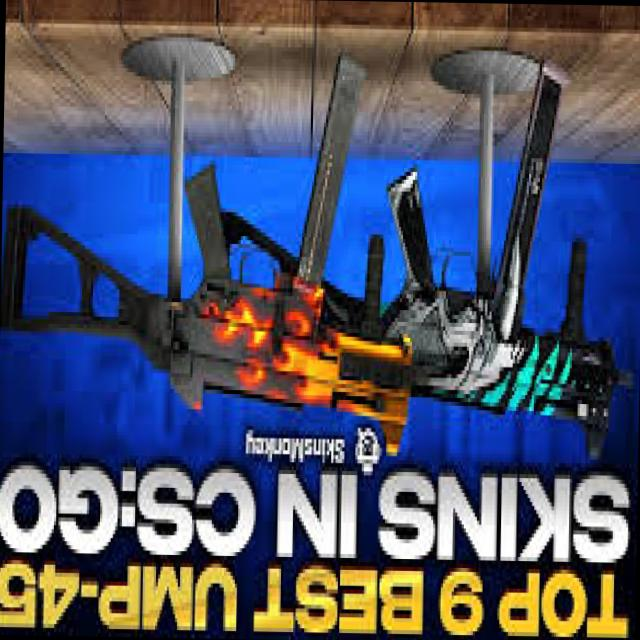Gun: (0, 30, 429, 468), (352, 73, 630, 456)
